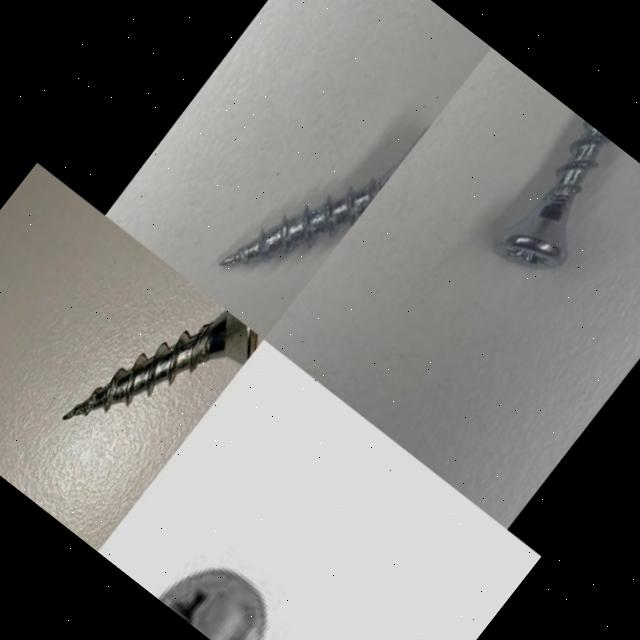Screw: (219, 127, 429, 267), (62, 311, 256, 420), (493, 121, 608, 270), (156, 568, 266, 640)
